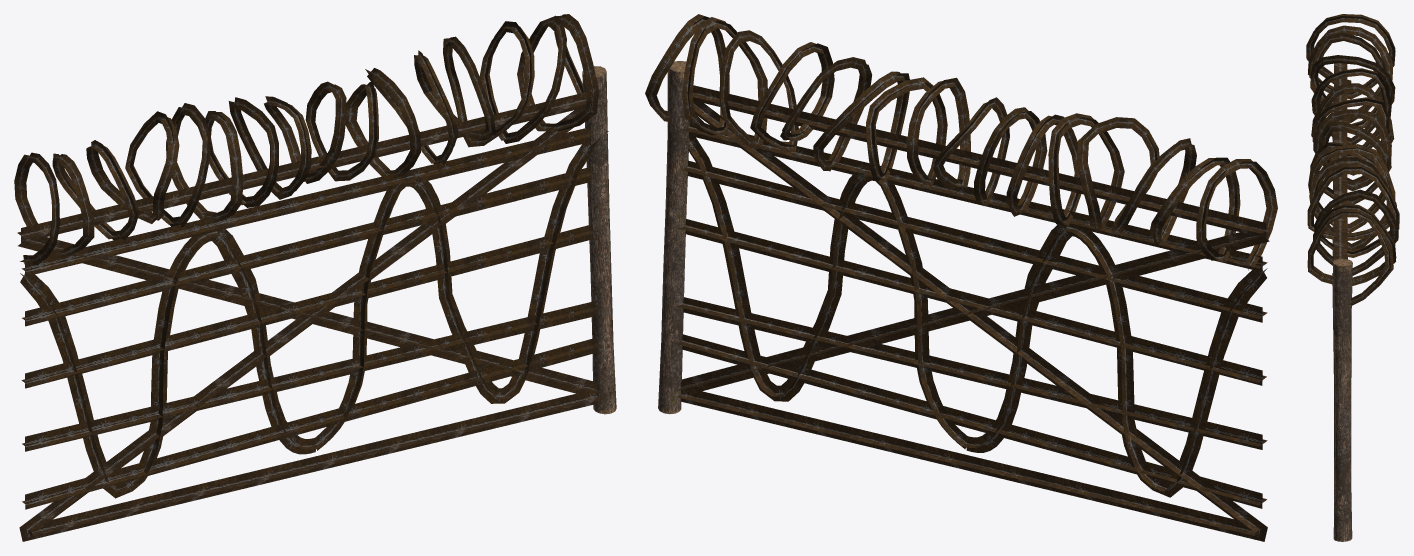
The model's file is Fence_wood_04.FBX.
The picture shows the model from 3 angles, left to right: view 1: azimuth 30°, elevation 25°; view 2: azimuth 150°, elevation 25°; view 3: azimuth 270°, elevation 25°; orthographic projection. The views are drawn at different scales.
Visible parts, largest first — view 1: Fence_wood_wire_04, Fence_wood_04; view 2: Fence_wood_wire_04, Fence_wood_04; view 3: Fence_wood_wire_04, Fence_wood_04.
Part boxes in pixels (x1,y1,x2,y2): Fence_wood_wire_04: [14, 14, 608, 541]; Fence_wood_04: [582, 66, 616, 414]; Fence_wood_wire_04: [645, 14, 1277, 541]; Fence_wood_04: [658, 61, 689, 414]; Fence_wood_wire_04: [1306, 14, 1399, 510]; Fence_wood_04: [1333, 258, 1352, 541].
Bounding box in the file's own units: 499 × 317 × 84.1.
